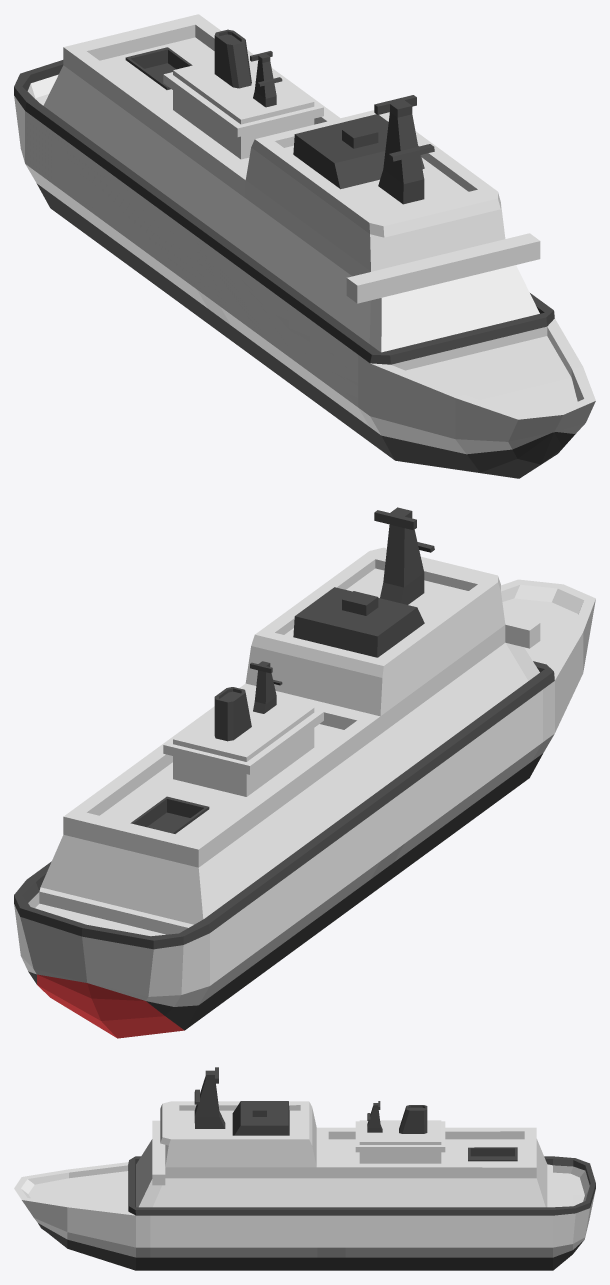
The model's file is CruiseShip.glb.
3 views of the same model, one above another, from view 1: azimuth 30°, elevation 25°; view 2: azimuth 150°, elevation 25°; view 3: azimuth 270°, elevation 25° (orthographic). The views are drawn at different scales.
Parts seen in each view (by area): view 1: CruiseShip; view 2: CruiseShip; view 3: CruiseShip.
Boxes of the visible parts, <box> form: CruiseShip: <box>14,14,595,478</box>; CruiseShip: <box>14,507,595,1038</box>; CruiseShip: <box>14,1067,595,1270</box>.
Size of the model in its own units: 4 by 6.6 by 18.05.
